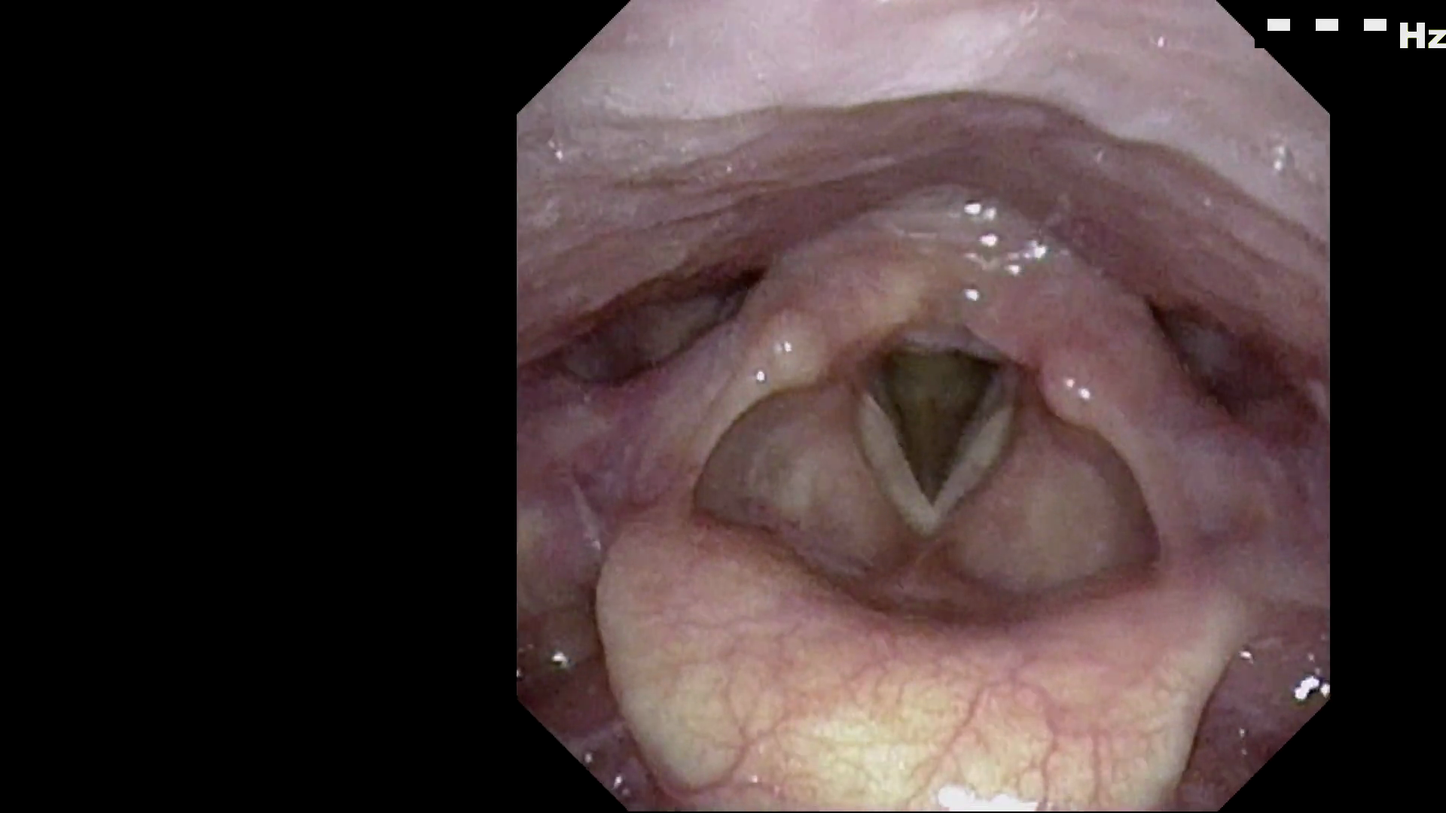epiglottis: (593, 524, 1221, 764)
trachea: (856, 346, 1034, 571)
